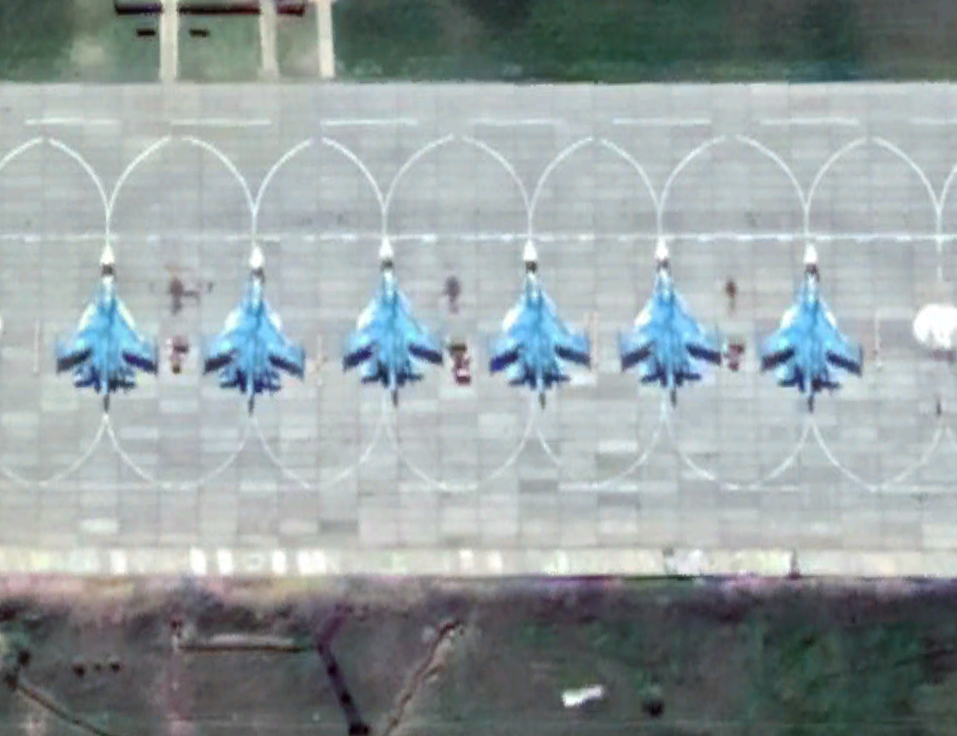A19: (753, 223, 868, 416), (194, 228, 312, 410), (611, 227, 727, 409), (330, 221, 447, 400), (478, 218, 595, 396), (53, 233, 168, 412)
